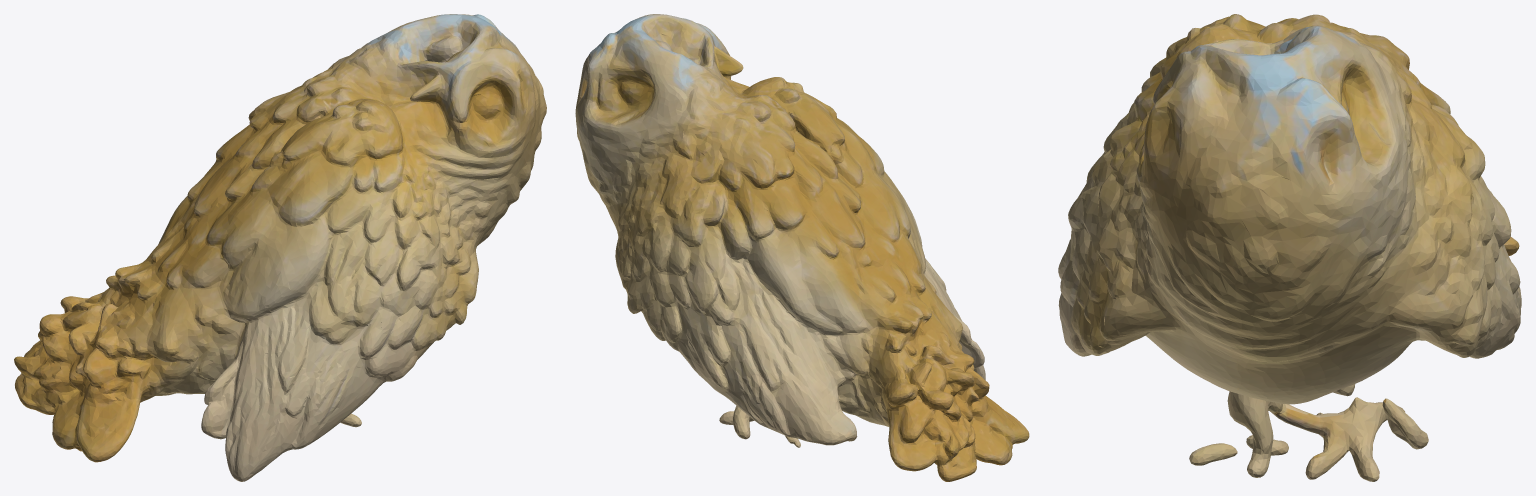
The model's file is owl-golden.glb.
3 views of the same model, side by side, from view 1: azimuth 30°, elevation 25°; view 2: azimuth 150°, elevation 25°; view 3: azimuth 270°, elevation 25° (orthographic). The views are drawn at different scales.
Visible parts, largest first — view 1: owl golden_textured.obj; view 2: owl golden_textured.obj; view 3: owl golden_textured.obj.
Part boxes in pixels (left/top/right/bottom): owl golden_textured.obj: left=14, top=14, right=546, bottom=481; owl golden_textured.obj: left=575, top=14, right=1029, bottom=481; owl golden_textured.obj: left=1058, top=14, right=1521, bottom=481.
Bounding box in the file's own units: 1.99 × 1.49 × 1.22.
1 material, 1 textured.
